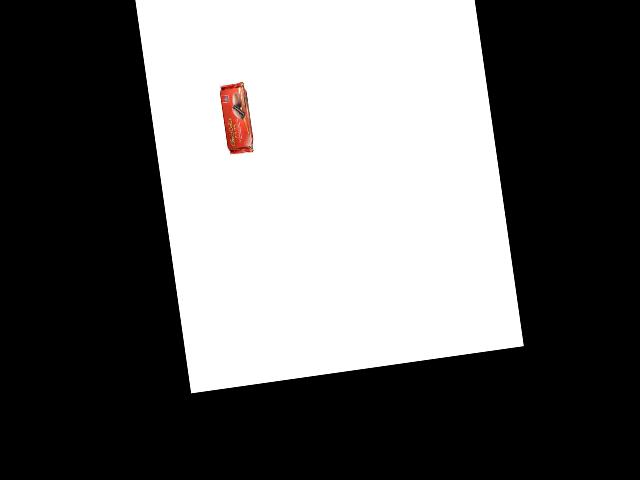chocolate: (218, 79, 261, 156)
